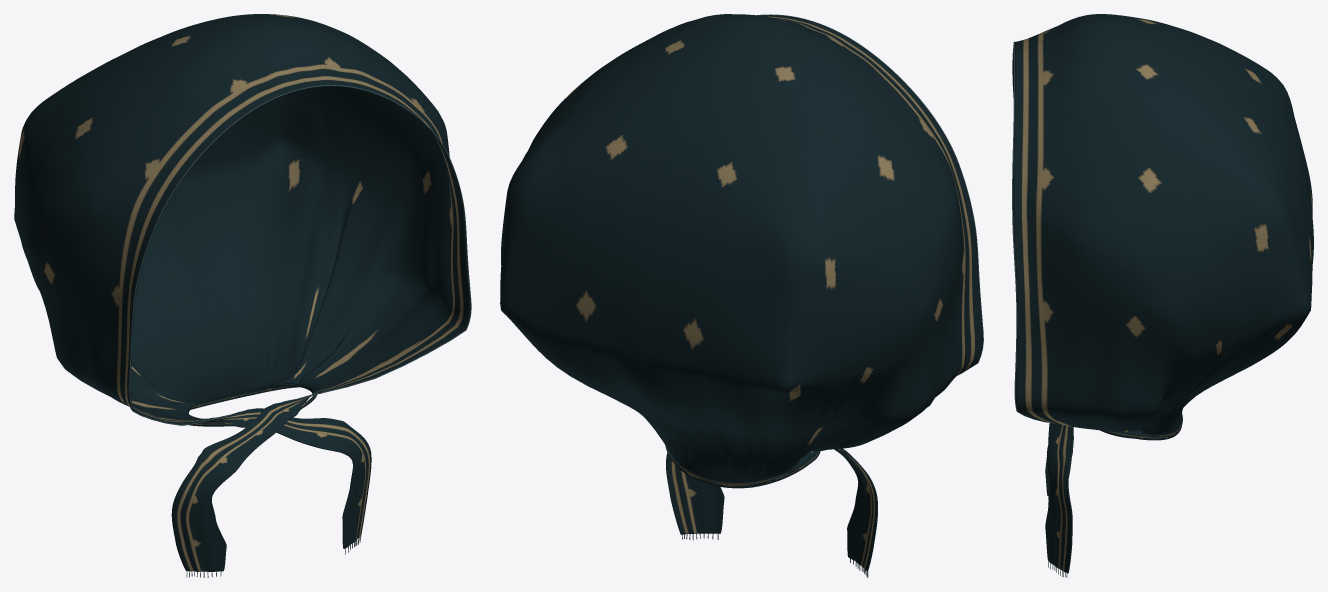
File: Masculine-flow-tank-pashmina249-headgear.glb
The picture shows the model from 3 angles, left to right: view 1: azimuth 30°, elevation 25°; view 2: azimuth 150°, elevation 25°; view 3: azimuth 270°, elevation 25°; orthographic projection. The views are drawn at different scales.
Visible parts, largest first — view 1: 226 headgear / Headwear / continuous woven pashmina239, 226 headgear / Headwear / face edge239; view 2: 226 headgear / Headwear / continuous woven pashmina239, 226 headgear / Headwear / face edge239; view 3: 226 headgear / Headwear / continuous woven pashmina239, 226 headgear / Headwear / face edge239.
Part boxes in pixels (box(x1,y1,x2,y2)): 226 headgear / Headwear / continuous woven pashmina239: box(14, 14, 470, 571); 226 headgear / Headwear / face edge239: box(129, 85, 471, 425); 226 headgear / Headwear / continuous woven pashmina239: box(500, 14, 982, 571); 226 headgear / Headwear / face edge239: box(757, 14, 983, 374); 226 headgear / Headwear / continuous woven pashmina239: box(1013, 14, 1313, 573); 226 headgear / Headwear / face edge239: box(1012, 41, 1048, 422).
Bounding box in the file's own units: 1.12 × 1.44 × 0.7747.
3 materials, 1 textured.
